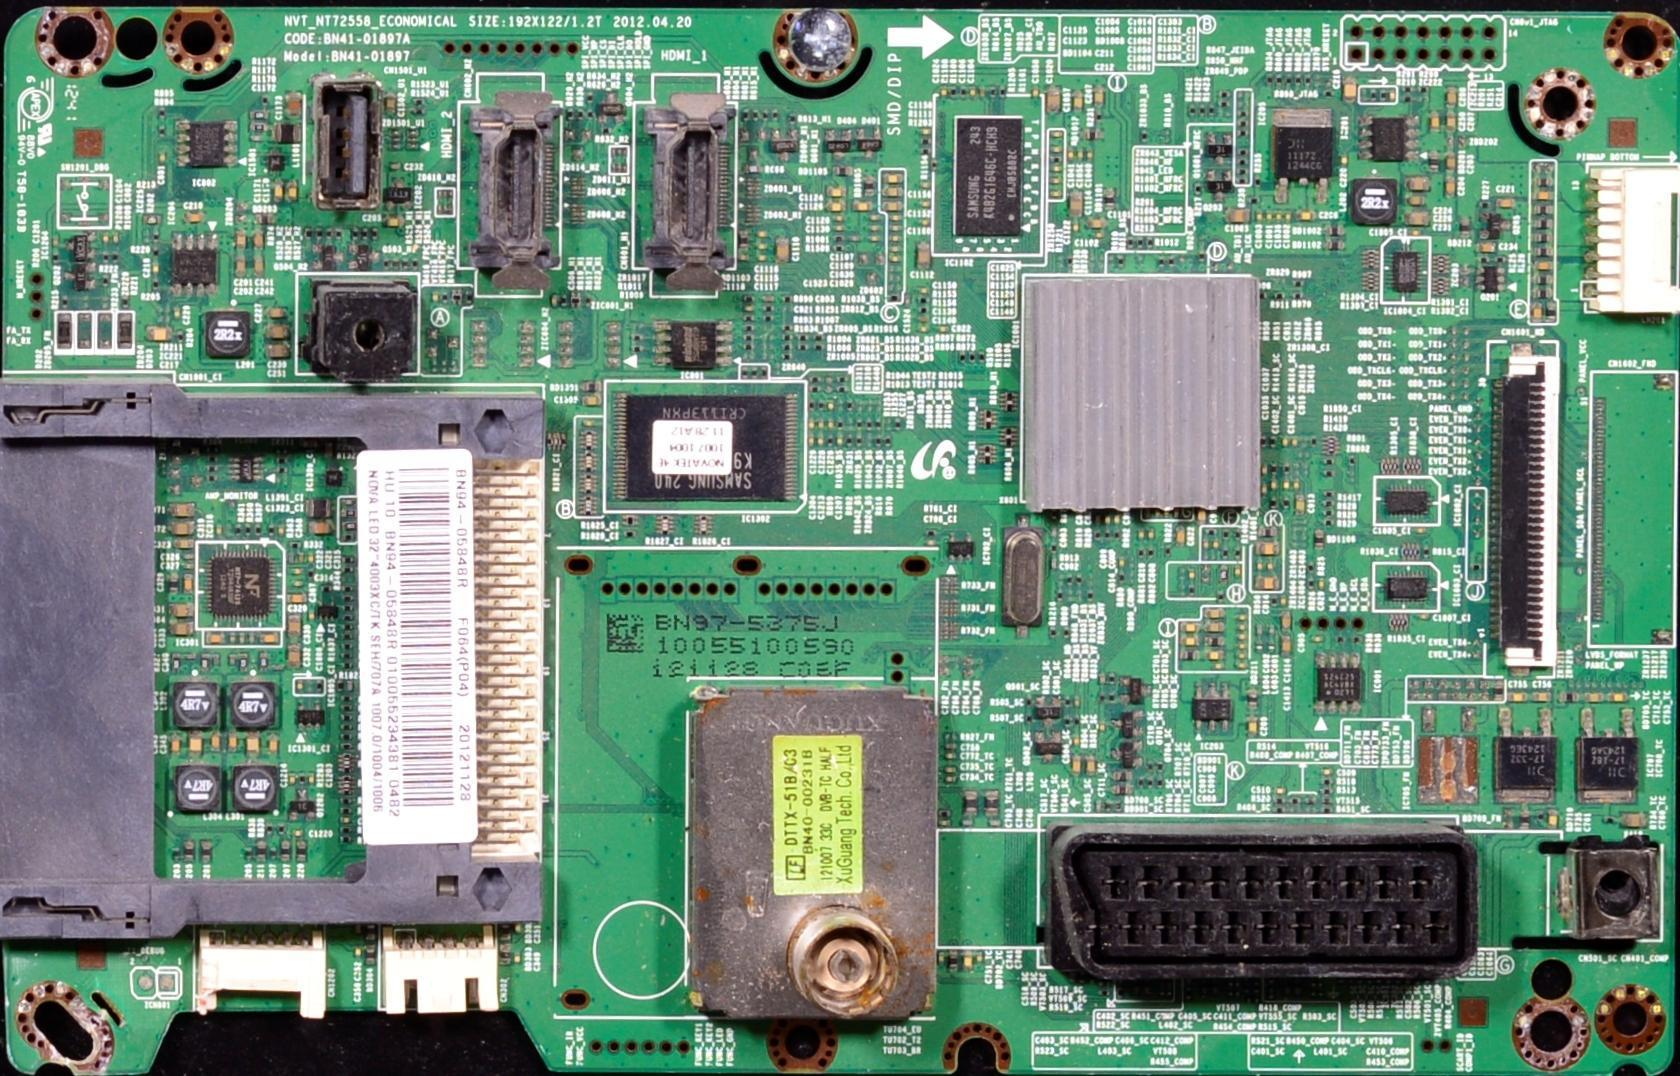Capacitor: (942, 737, 1004, 788), (1042, 78, 1115, 117), (1177, 604, 1249, 640), (935, 642, 988, 686), (956, 793, 1013, 827), (1252, 538, 1283, 593), (1400, 174, 1429, 230), (1445, 82, 1458, 203), (1071, 728, 1103, 777), (238, 223, 267, 275), (1224, 208, 1320, 223), (879, 169, 906, 216), (887, 213, 909, 268), (1615, 806, 1656, 834), (1507, 687, 1555, 710), (1257, 476, 1312, 494), (142, 319, 179, 345), (287, 794, 319, 824), (913, 238, 936, 279), (1585, 687, 1632, 707), (824, 183, 849, 216), (751, 230, 773, 266), (1470, 240, 1518, 256), (1276, 609, 1292, 657), (1094, 791, 1124, 814), (1232, 635, 1251, 671), (771, 234, 794, 263), (306, 493, 335, 516), (1048, 165, 1066, 202), (186, 726, 205, 760), (377, 90, 401, 116), (1135, 522, 1159, 548), (1110, 767, 1134, 793), (1292, 491, 1314, 519), (1085, 214, 1110, 238), (1539, 805, 1563, 829), (167, 501, 198, 519), (915, 219, 939, 242), (139, 256, 163, 279), (1340, 71, 1356, 105), (1068, 145, 1096, 164), (577, 389, 602, 410), (1050, 125, 1070, 151), (1201, 536, 1223, 559), (256, 628, 284, 646), (1425, 111, 1444, 137), (868, 212, 883, 244), (1530, 182, 1554, 201), (266, 180, 285, 204), (168, 603, 196, 619), (1531, 256, 1557, 273), (1069, 186, 1084, 215), (1269, 779, 1296, 795), (244, 731, 261, 756), (225, 729, 241, 755), (1105, 512, 1128, 530), (1247, 714, 1264, 738), (288, 639, 302, 668), (169, 522, 196, 537), (170, 621, 196, 636), (308, 518, 332, 534), (1205, 650, 1225, 669), (1174, 521, 1187, 550), (285, 591, 307, 608), (265, 734, 281, 757), (807, 429, 826, 448), (382, 212, 403, 229), (1184, 564, 1201, 585), (186, 209, 208, 225), (205, 631, 227, 647), (1530, 300, 1545, 323), (288, 568, 307, 586), (811, 418, 835, 432), (1284, 432, 1302, 450), (854, 198, 874, 214), (171, 649, 184, 672), (173, 537, 195, 550), (183, 573, 195, 596), (211, 729, 222, 754), (833, 214, 848, 232), (760, 291, 779, 305), (288, 179, 298, 205), (1497, 196, 1517, 209), (918, 314, 931, 334), (171, 729, 181, 755), (1233, 563, 1246, 582), (739, 303, 761, 313), (1314, 570, 1325, 590), (547, 290, 559, 308), (430, 286, 440, 305), (288, 769, 298, 788), (50, 236, 61, 253), (290, 620, 301, 637), (1318, 763, 1335, 774), (837, 431, 846, 450), (916, 182, 934, 190), (215, 522, 223, 540), (1072, 216, 1080, 233), (278, 522, 286, 539), (1387, 84, 1395, 101), (937, 324, 952, 333), (919, 286, 931, 297), (1116, 553, 1125, 567), (919, 199, 930, 210), (300, 550, 307, 567), (309, 771, 316, 787), (288, 549, 295, 563), (309, 552, 315, 568), (1261, 462, 1267, 477), (1186, 639, 1198, 646), (830, 397, 834, 416)
IC: (605, 369, 813, 513), (930, 90, 1047, 256), (1260, 98, 1345, 217), (1488, 708, 1564, 798), (1575, 707, 1642, 804), (641, 316, 737, 377), (1307, 641, 1383, 717), (1422, 730, 1483, 805), (1372, 560, 1455, 614), (1351, 112, 1426, 168), (1375, 472, 1440, 527), (1186, 684, 1240, 741), (203, 452, 285, 488), (1098, 661, 1148, 708), (1027, 729, 1071, 773), (1027, 687, 1068, 730), (292, 698, 329, 743), (595, 89, 631, 131), (944, 534, 979, 571), (1112, 732, 1148, 767), (382, 168, 415, 205), (1106, 705, 1147, 733), (315, 591, 341, 629), (266, 146, 288, 176)
Resistor: (1383, 237, 1426, 300), (302, 219, 382, 244), (1262, 273, 1314, 304), (1056, 571, 1101, 602), (1532, 201, 1554, 258), (1270, 795, 1338, 812), (1134, 760, 1172, 789), (1318, 489, 1340, 530), (843, 433, 898, 449), (1045, 619, 1082, 642), (1185, 97, 1220, 121), (855, 415, 904, 432), (739, 313, 759, 354), (1531, 271, 1557, 297), (797, 330, 825, 353), (1422, 147, 1444, 176), (1246, 679, 1263, 713), (1123, 233, 1155, 251), (781, 321, 794, 365), (1048, 530, 1061, 573), (1136, 546, 1174, 560), (1092, 526, 1123, 543), (445, 288, 473, 306), (562, 293, 590, 311), (1217, 86, 1234, 115), (1102, 185, 1120, 211), (1348, 449, 1361, 485), (1156, 253, 1178, 274), (1455, 216, 1474, 240), (810, 372, 829, 394), (198, 840, 214, 866), (1320, 458, 1339, 479), (1560, 686, 1581, 705), (257, 649, 272, 675), (579, 374, 603, 390), (566, 108, 593, 122), (1137, 121, 1153, 144), (1273, 462, 1299, 476), (808, 396, 827, 415), (1267, 495, 1288, 512), (1087, 124, 1109, 140), (1180, 647, 1203, 662), (840, 396, 858, 415), (166, 845, 183, 865), (1305, 561, 1318, 587), (237, 649, 250, 675), (832, 414, 849, 433), (834, 235, 850, 255), (1520, 808, 1533, 832), (737, 228, 751, 250), (1072, 709, 1091, 725), (280, 838, 292, 863), (296, 839, 309, 862), (184, 841, 196, 865), (835, 376, 850, 395), (1600, 812, 1615, 831), (168, 570, 179, 595), (917, 295, 931, 314), (1321, 776, 1335, 795), (119, 288, 131, 310), (1116, 566, 1127, 590), (1203, 636, 1227, 647), (198, 651, 210, 673), (257, 837, 268, 861), (763, 304, 776, 324), (155, 149, 169, 167), (1261, 434, 1279, 448), (251, 519, 264, 538), (51, 253, 63, 272), (1047, 154, 1065, 166), (1113, 254, 1126, 270), (101, 231, 110, 252), (740, 292, 757, 303), (1309, 432, 1320, 449), (267, 524, 278, 540), (781, 293, 794, 306), (300, 769, 308, 790), (1475, 195, 1486, 209), (151, 228, 161, 243), (245, 845, 253, 863), (235, 520, 242, 539), (152, 281, 160, 297), (61, 291, 68, 309), (151, 244, 161, 255), (245, 521, 251, 537), (827, 434, 833, 449)
